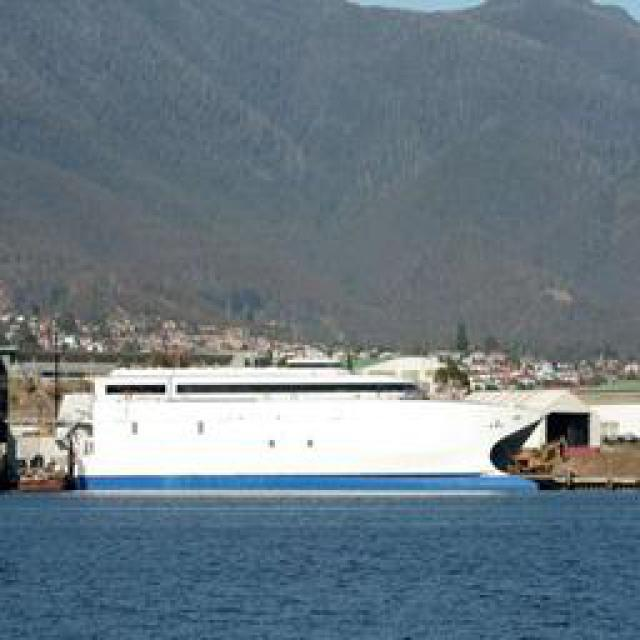Ship: (61, 379, 536, 494)
